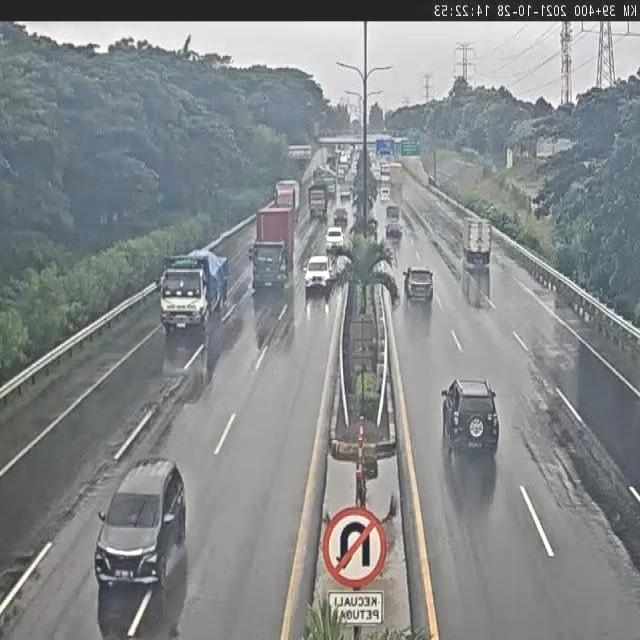Car: (93, 458, 185, 596), (443, 372, 505, 456), (303, 254, 333, 293), (404, 266, 434, 303), (325, 227, 345, 253), (334, 207, 348, 228), (380, 186, 390, 203)
Truck: (160, 252, 227, 332), (252, 198, 293, 303), (461, 216, 494, 274), (388, 163, 404, 194)
